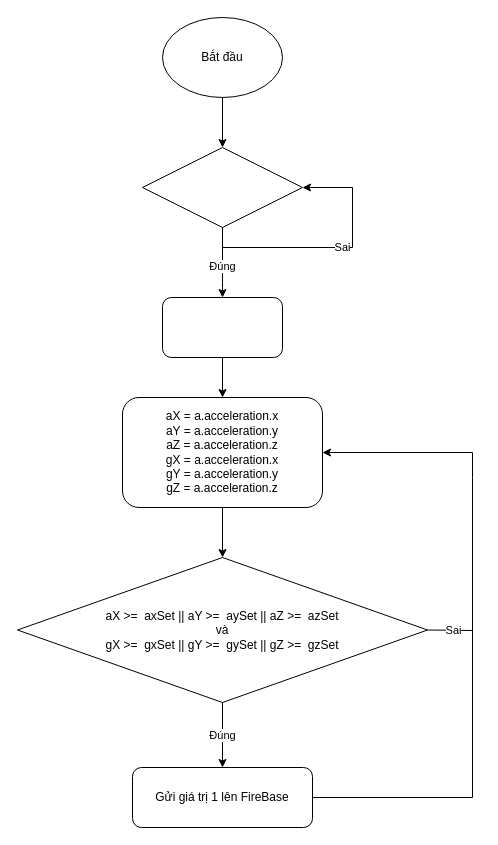
This 498x845 diagram has some shape labels left out. Here are the shapes that lost their labels. From the top down, the centre of each, then its label:
At point (222, 187): "Wifi == True".
At point (222, 327): "Kết nối Fasebase".
